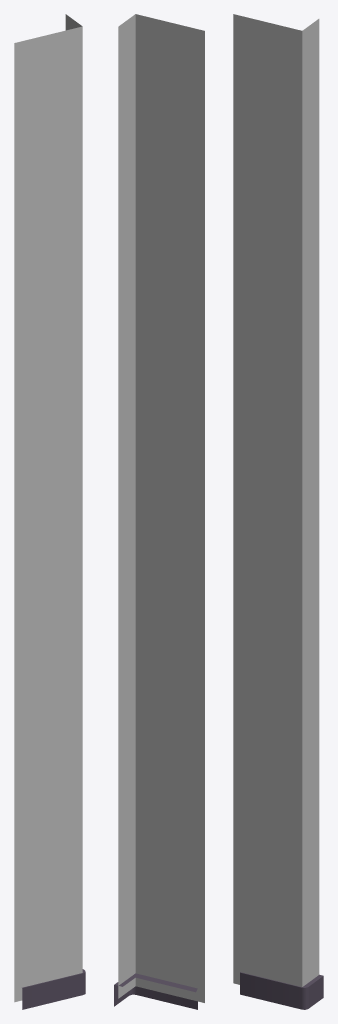
Rendered from StoneWall005.FBX.
The picture shows the model from 3 angles, left to right: view 1: azimuth 30°, elevation 25°; view 2: azimuth 150°, elevation 25°; view 3: azimuth 330°, elevation 25°; orthographic projection.
Parts seen in each view (by area): view 1: StoneWall005; view 2: StoneWall005; view 3: StoneWall005.
Boxes of the visible parts, x1,y1,x2,y2 form: StoneWall005: (14, 14, 85, 1009); StoneWall005: (114, 14, 204, 1009); StoneWall005: (233, 14, 323, 1009).
Size of the model in its own units: 1.06 by 13.56 by 0.4463.
